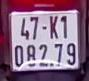0: (13, 44, 24, 67)
1: (61, 13, 70, 39)
2: (37, 42, 49, 67)
4: (19, 15, 30, 41)
7: (53, 41, 64, 67), (30, 16, 39, 40)
8: (26, 43, 37, 67)
9: (66, 42, 77, 67)
K: (47, 13, 59, 40)
